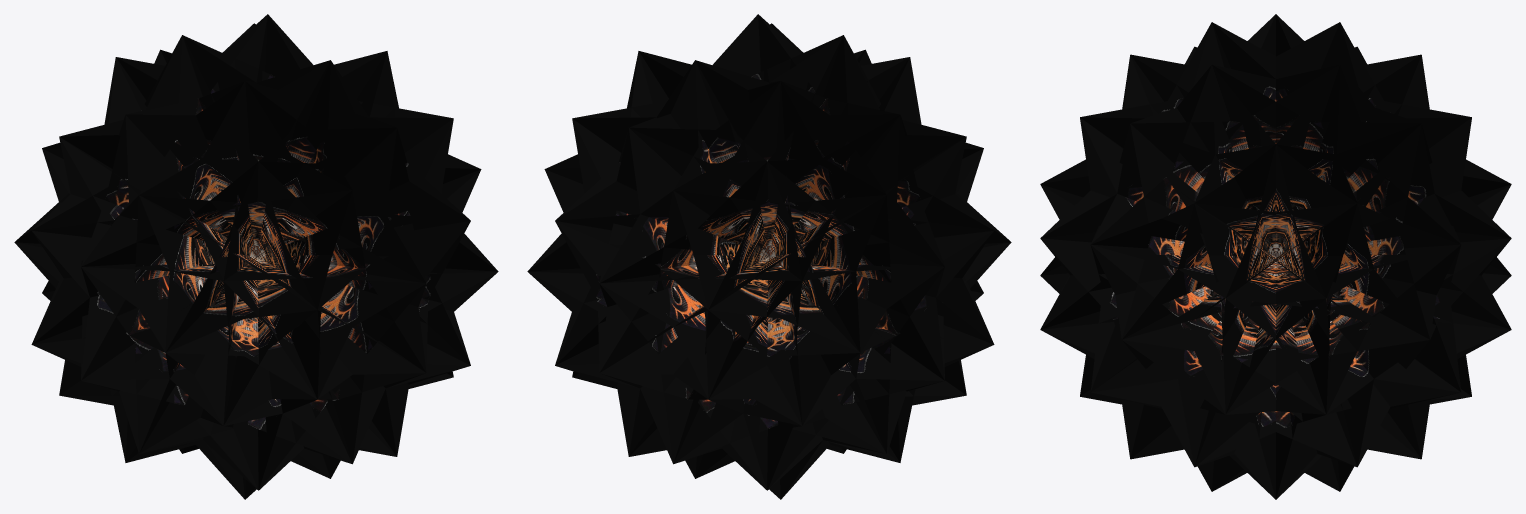
Rendered from 1GreatDirhombicosidodecahedron.gltf.
3 renders of one model, left to right at view 1: azimuth 30°, elevation 25°; view 2: azimuth 150°, elevation 25°; view 3: azimuth 270°, elevation 25°, orthographic. The views are drawn at different scales.
Visible parts, largest first — view 1: GreatDirhombicosidodecahedron12; view 2: GreatDirhombicosidodecahedron12; view 3: GreatDirhombicosidodecahedron12.
Part boxes in pixels (x1,y1,x2,y2): GreatDirhombicosidodecahedron12: (14,14,498,499); GreatDirhombicosidodecahedron12: (527,14,1011,499); GreatDirhombicosidodecahedron12: (1040,14,1511,499).
Bounding box in the file's own units: 1.34 × 1.34 × 1.34.
Materials: 1 (1 with a texture image).
